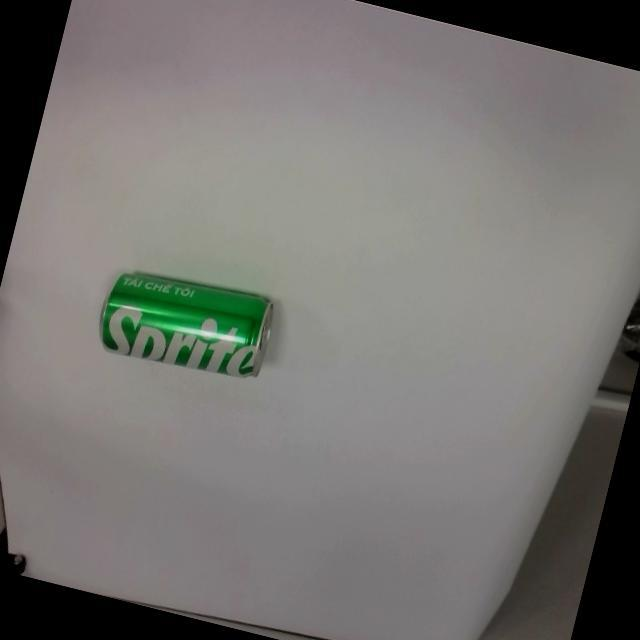debris: (90, 257, 279, 389)
